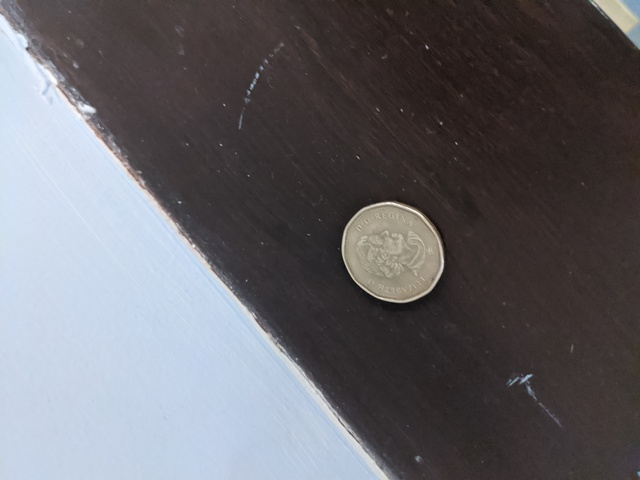loonie: (332, 205, 461, 305)
